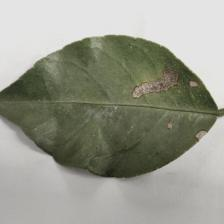canker: (100, 52, 218, 148)
